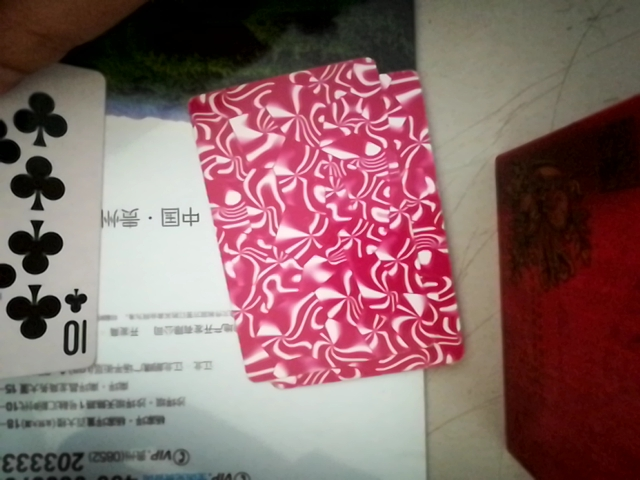mh 10: (0, 44, 106, 403)
